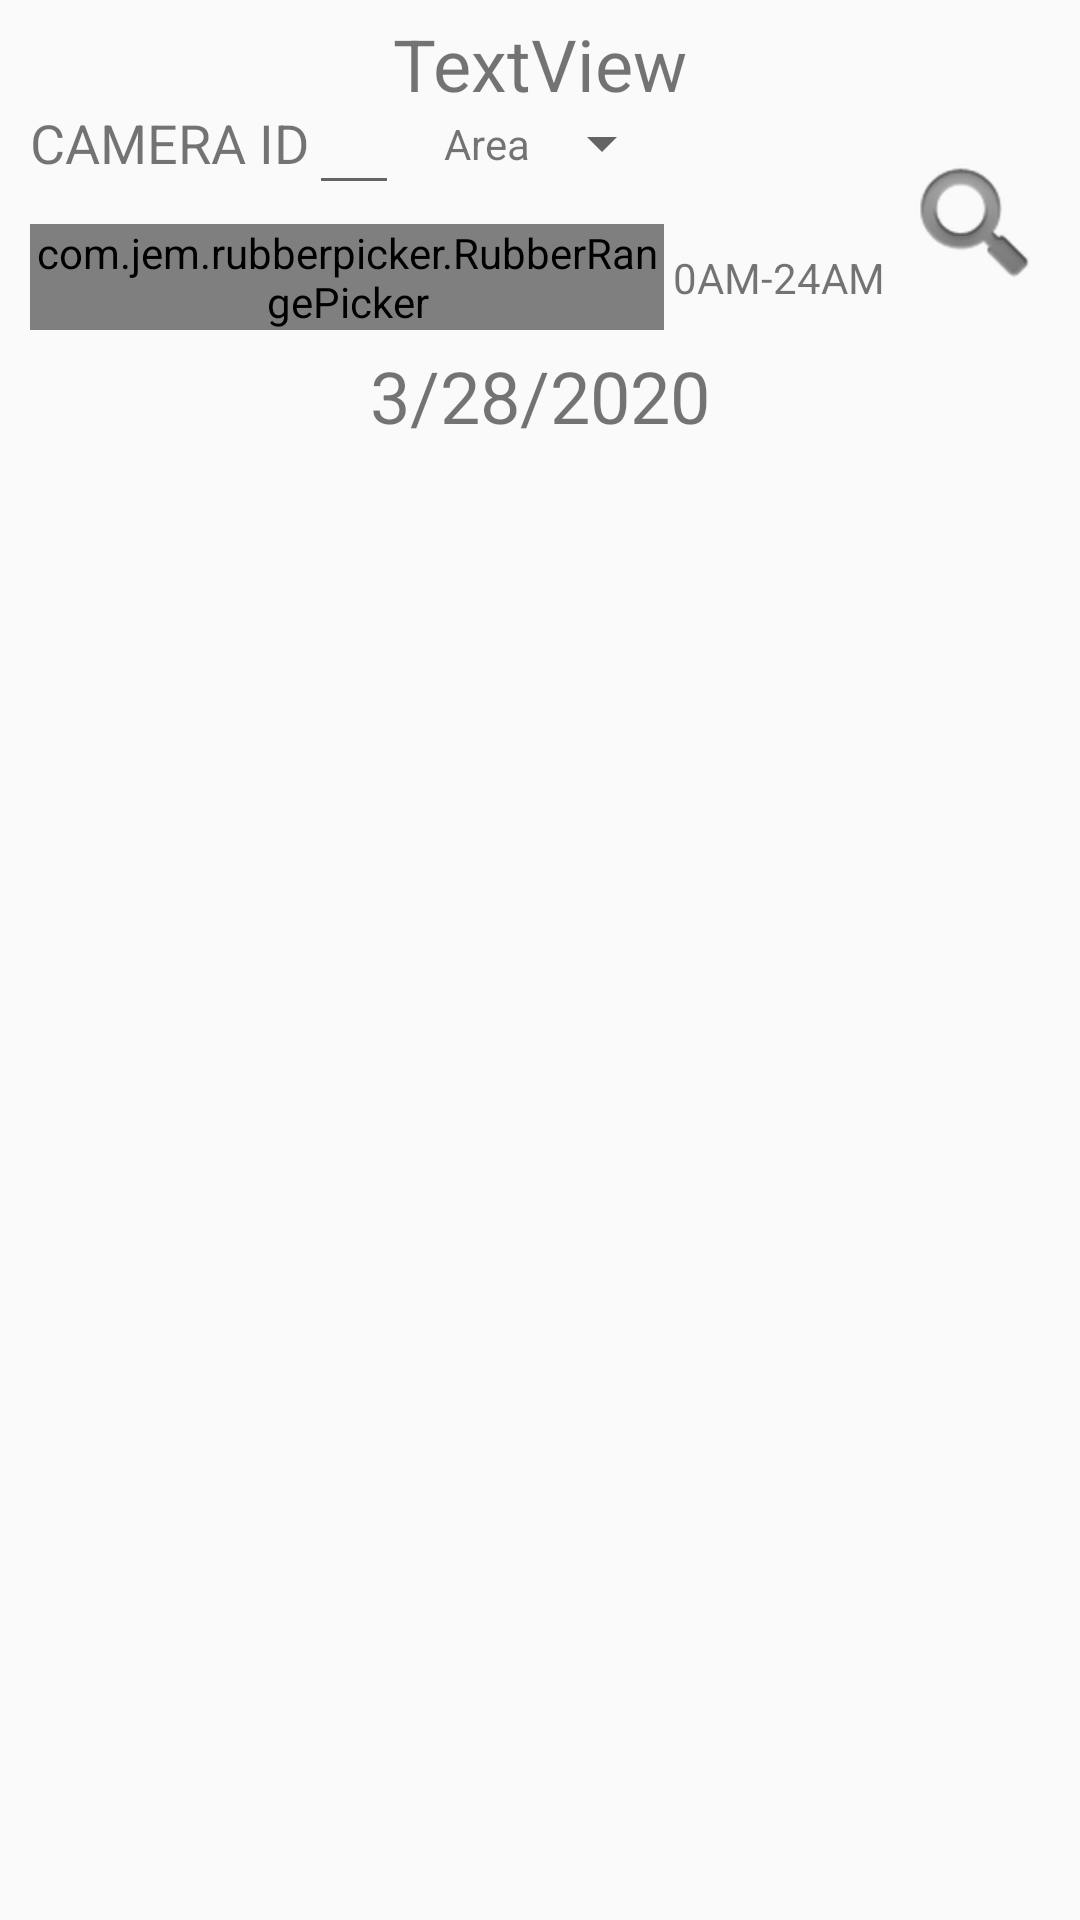

Screen size 1080px x 1920px. Icon name, then its center in pixels as [x,y]:
search category: [974,222]
